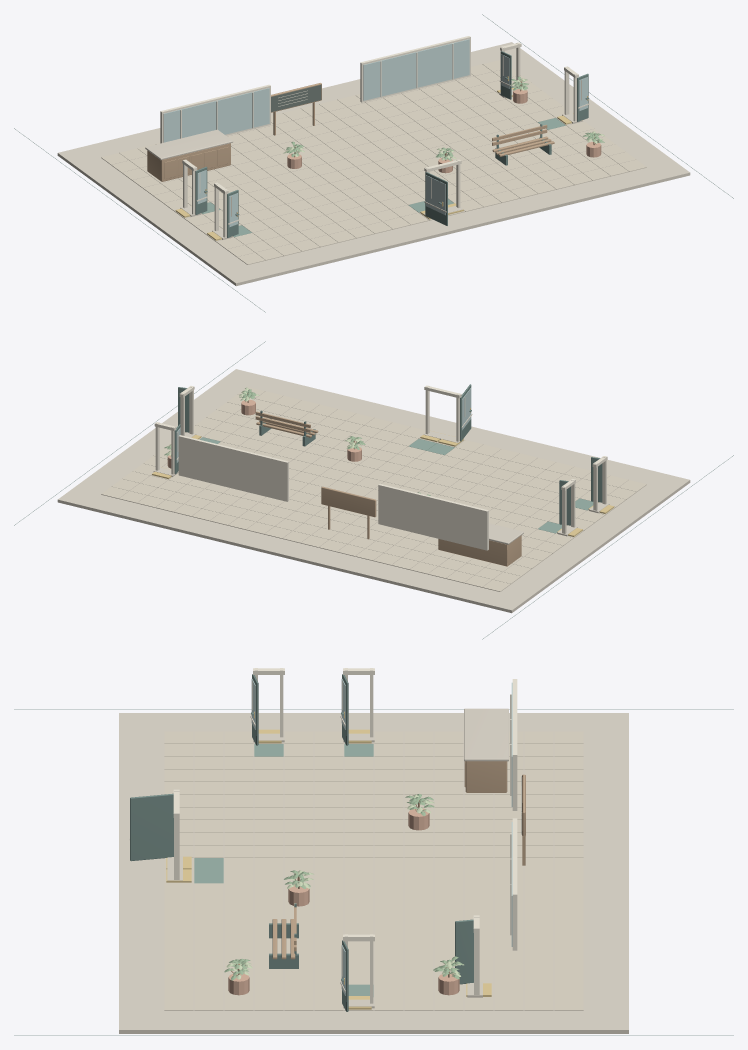
Rendered from room.glb.
3 views of the same model, one above another, from view 1: azimuth 30°, elevation 25°; view 2: azimuth 150°, elevation 25°; view 3: azimuth 270°, elevation 25° (orthographic). The views are drawn at different scales.
Visible parts, largest first — view 1: ground, building slab, cold glass, window frame, trunk, surrounding corridor seam, slate, terracotta planter, individual ficus leaves, ground.155; view 2: ground, building slab, window frame, trunk, surrounding corridor seam, ground.155, door threshold; view 3: ground, building slab, surrounding corridor seam, window frame, trunk, ground.155, terracotta planter, individual ficus leaves, cold glass, door threshold.
Boxes of the visible parts, left/top/right/bottom form: ground: left=101, top=59, right=646, bottom=264; building slab: left=57, top=42, right=690, bottom=286; cold glass: left=163, top=39, right=587, bottom=227; window frame: left=160, top=36, right=589, bottom=237; trunk: left=147, top=80, right=598, bottom=181; surrounding corridor seam: left=14, top=14, right=733, bottom=312; slate: left=271, top=85, right=321, bottom=112; terracotta planter: left=287, top=89, right=601, bottom=173; individual ficus leaves: left=283, top=76, right=604, bottom=160; ground.155: left=201, top=118, right=565, bottom=237; ground: left=101, top=386, right=646, bottom=591; building slab: left=57, top=369, right=690, bottom=613; window frame: left=154, top=385, right=607, bottom=550; trunk: left=244, top=393, right=521, bottom=566; surrounding corridor seam: left=14, top=341, right=733, bottom=639; ground.155: left=200, top=437, right=593, bottom=533; door threshold: left=152, top=408, right=614, bottom=536; ground: left=164, top=731, right=583, bottom=1010; building slab: left=119, top=708, right=628, bottom=1033; surrounding corridor seam: left=14, top=674, right=733, bottom=1035; window frame: left=129, top=668, right=521, bottom=1003; trunk: left=231, top=761, right=525, bottom=977; ground.155: left=194, top=744, right=373, bottom=996; terracotta planter: left=228, top=808, right=459, bottom=995; individual ficus leaves: left=224, top=794, right=463, bottom=980; cold glass: left=251, top=679, right=512, bottom=995; door threshold: left=166, top=711, right=491, bottom=1009.
Size of what is drawn, in the model's own units: 20.62 by 2.43 by 19.2.
